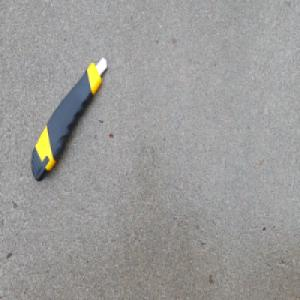Cutter: (30, 57, 108, 183)
